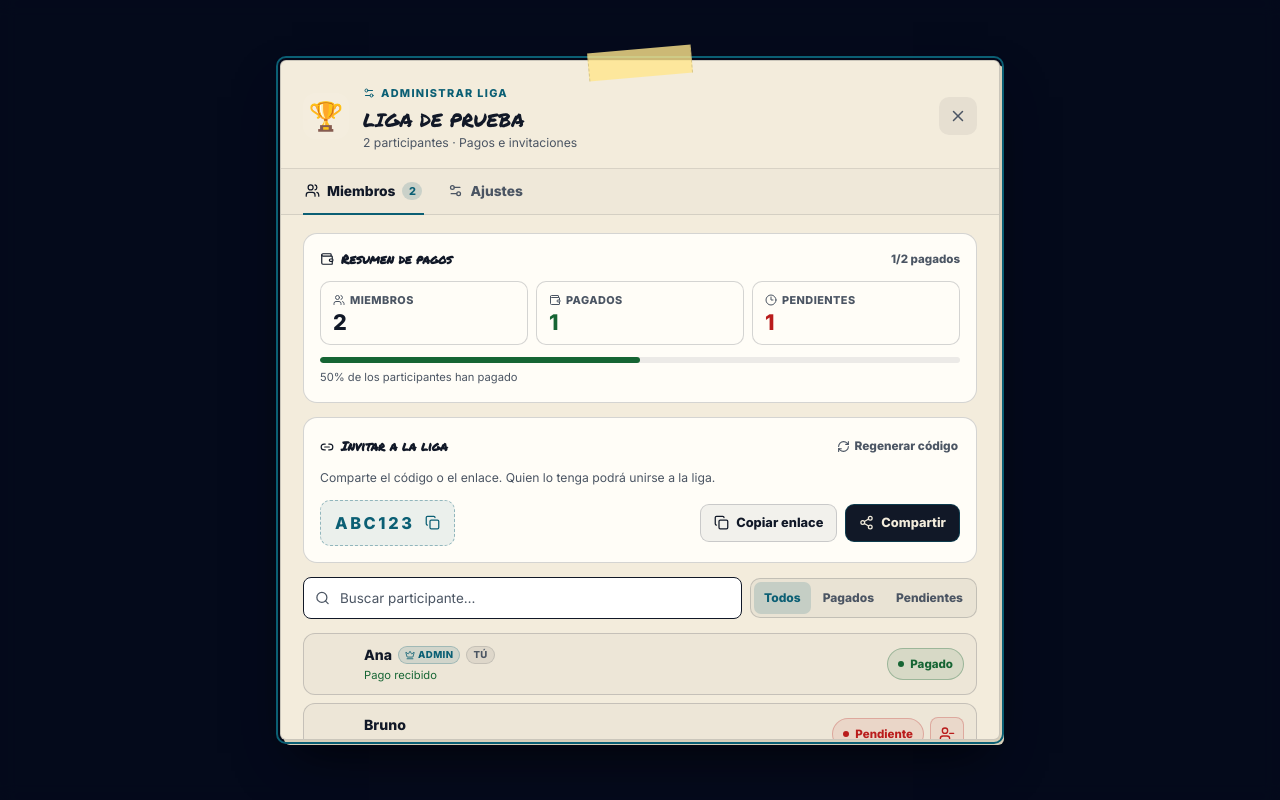
Test case: GroupMembersModal › blocks settings edits and closing until the pending save finishes
This screenshot has width=1280, height=800.
Expected: the text "Bruno" is shown, [364,714,406,735]
Click the tab "Ajustes".
click(486, 192)  # box [446,169,525,215]
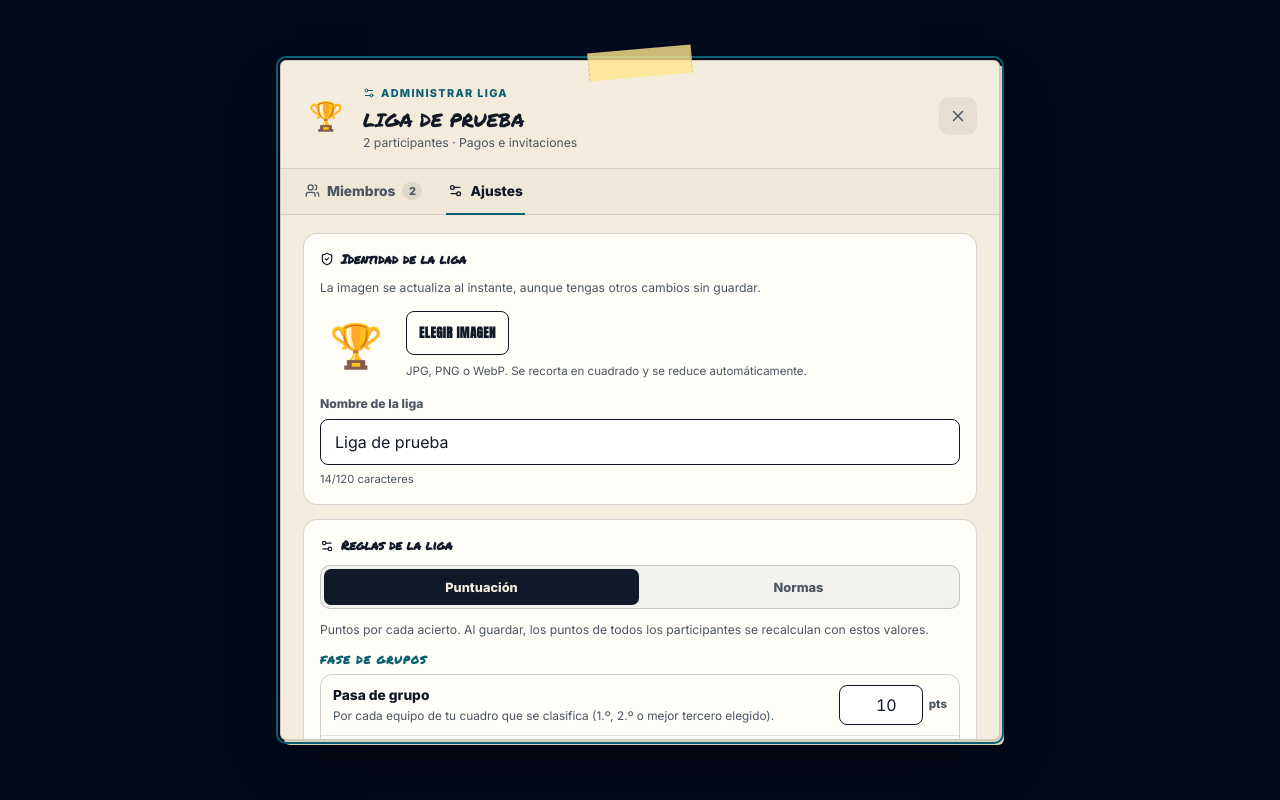
Replace the text in the field labelled "Nombre de la liga" with "Nueva liga" at (640, 442), box [320,420,960,466]
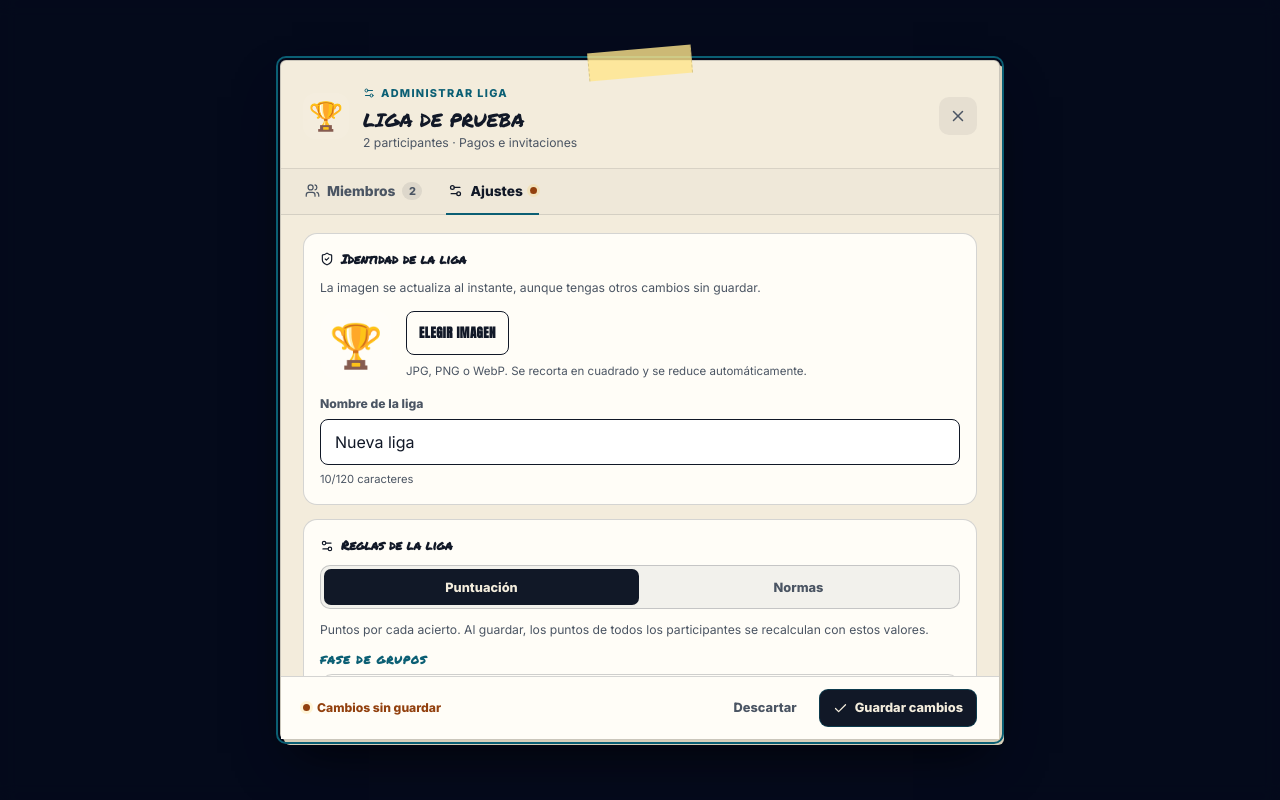
Click the button "Guardar cambios".
click(898, 708)  # box [819,689,977,727]
(page scrolled)
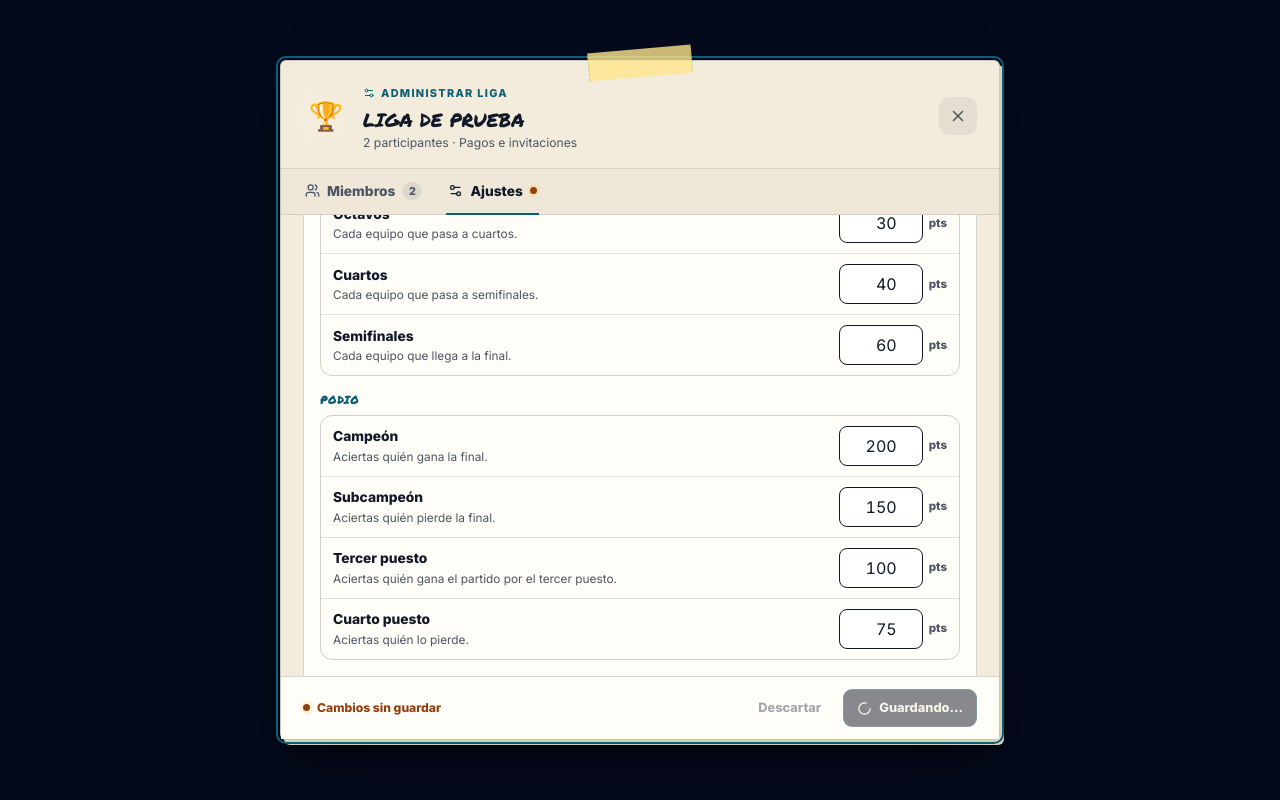
Now the number field labelled "Campeón" is disabled, box [839,426,923,466]
Press Escape
(page scrolled)
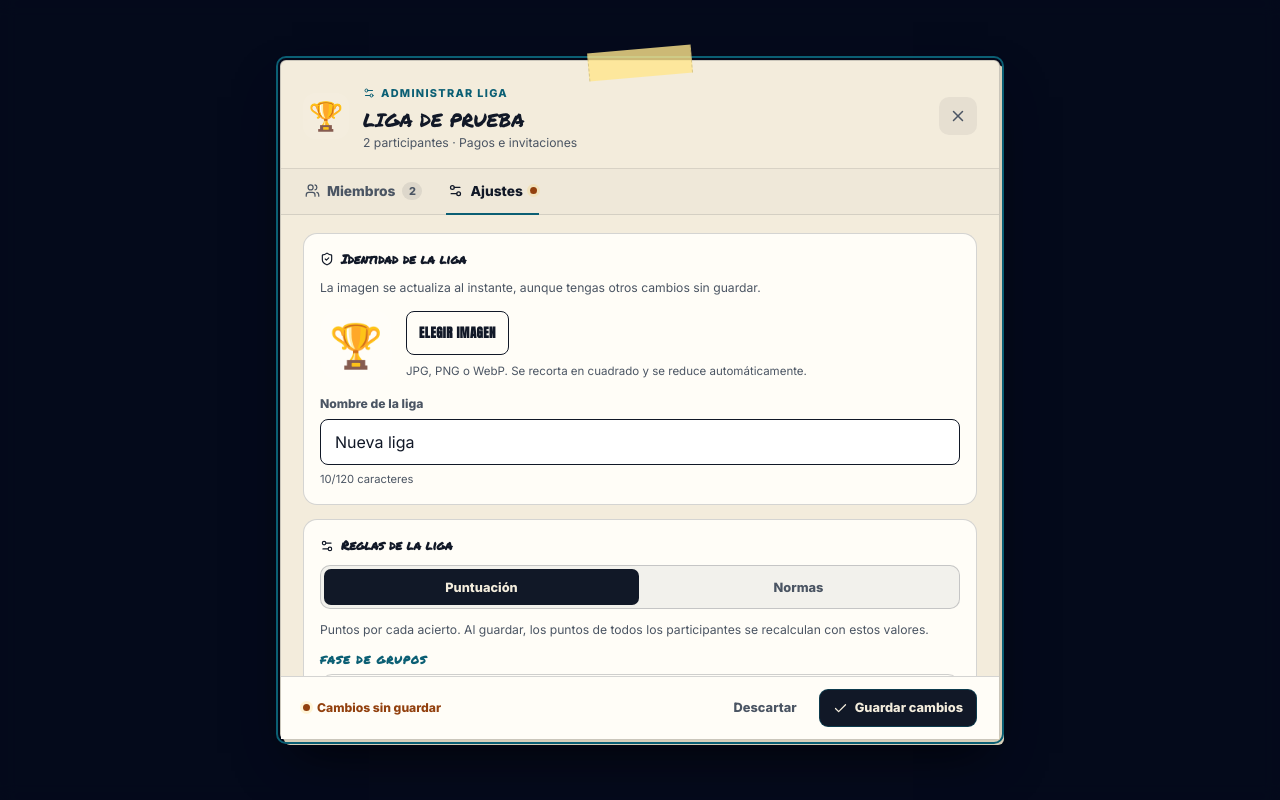
Now the field labelled "Nombre de la liga" is enabled, box [320,420,960,466]
